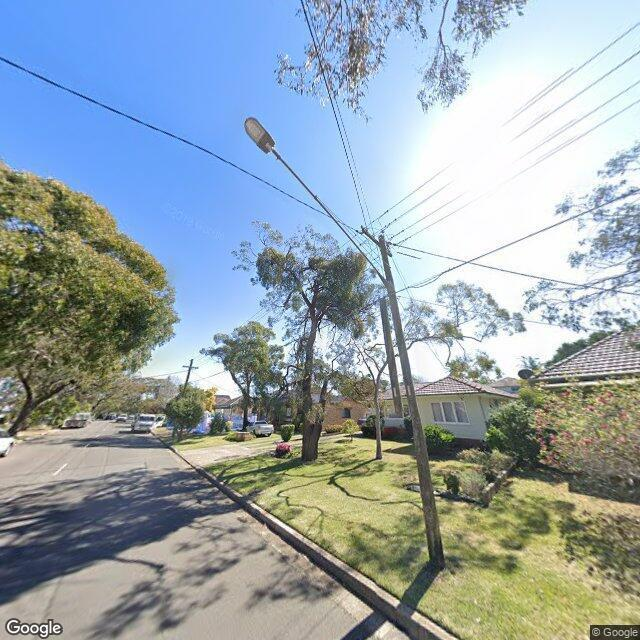crossarm: (360, 226, 392, 258), (182, 364, 199, 370)
streetlight: (245, 115, 386, 286)
timber-pole: (378, 235, 445, 571), (170, 358, 194, 439)
